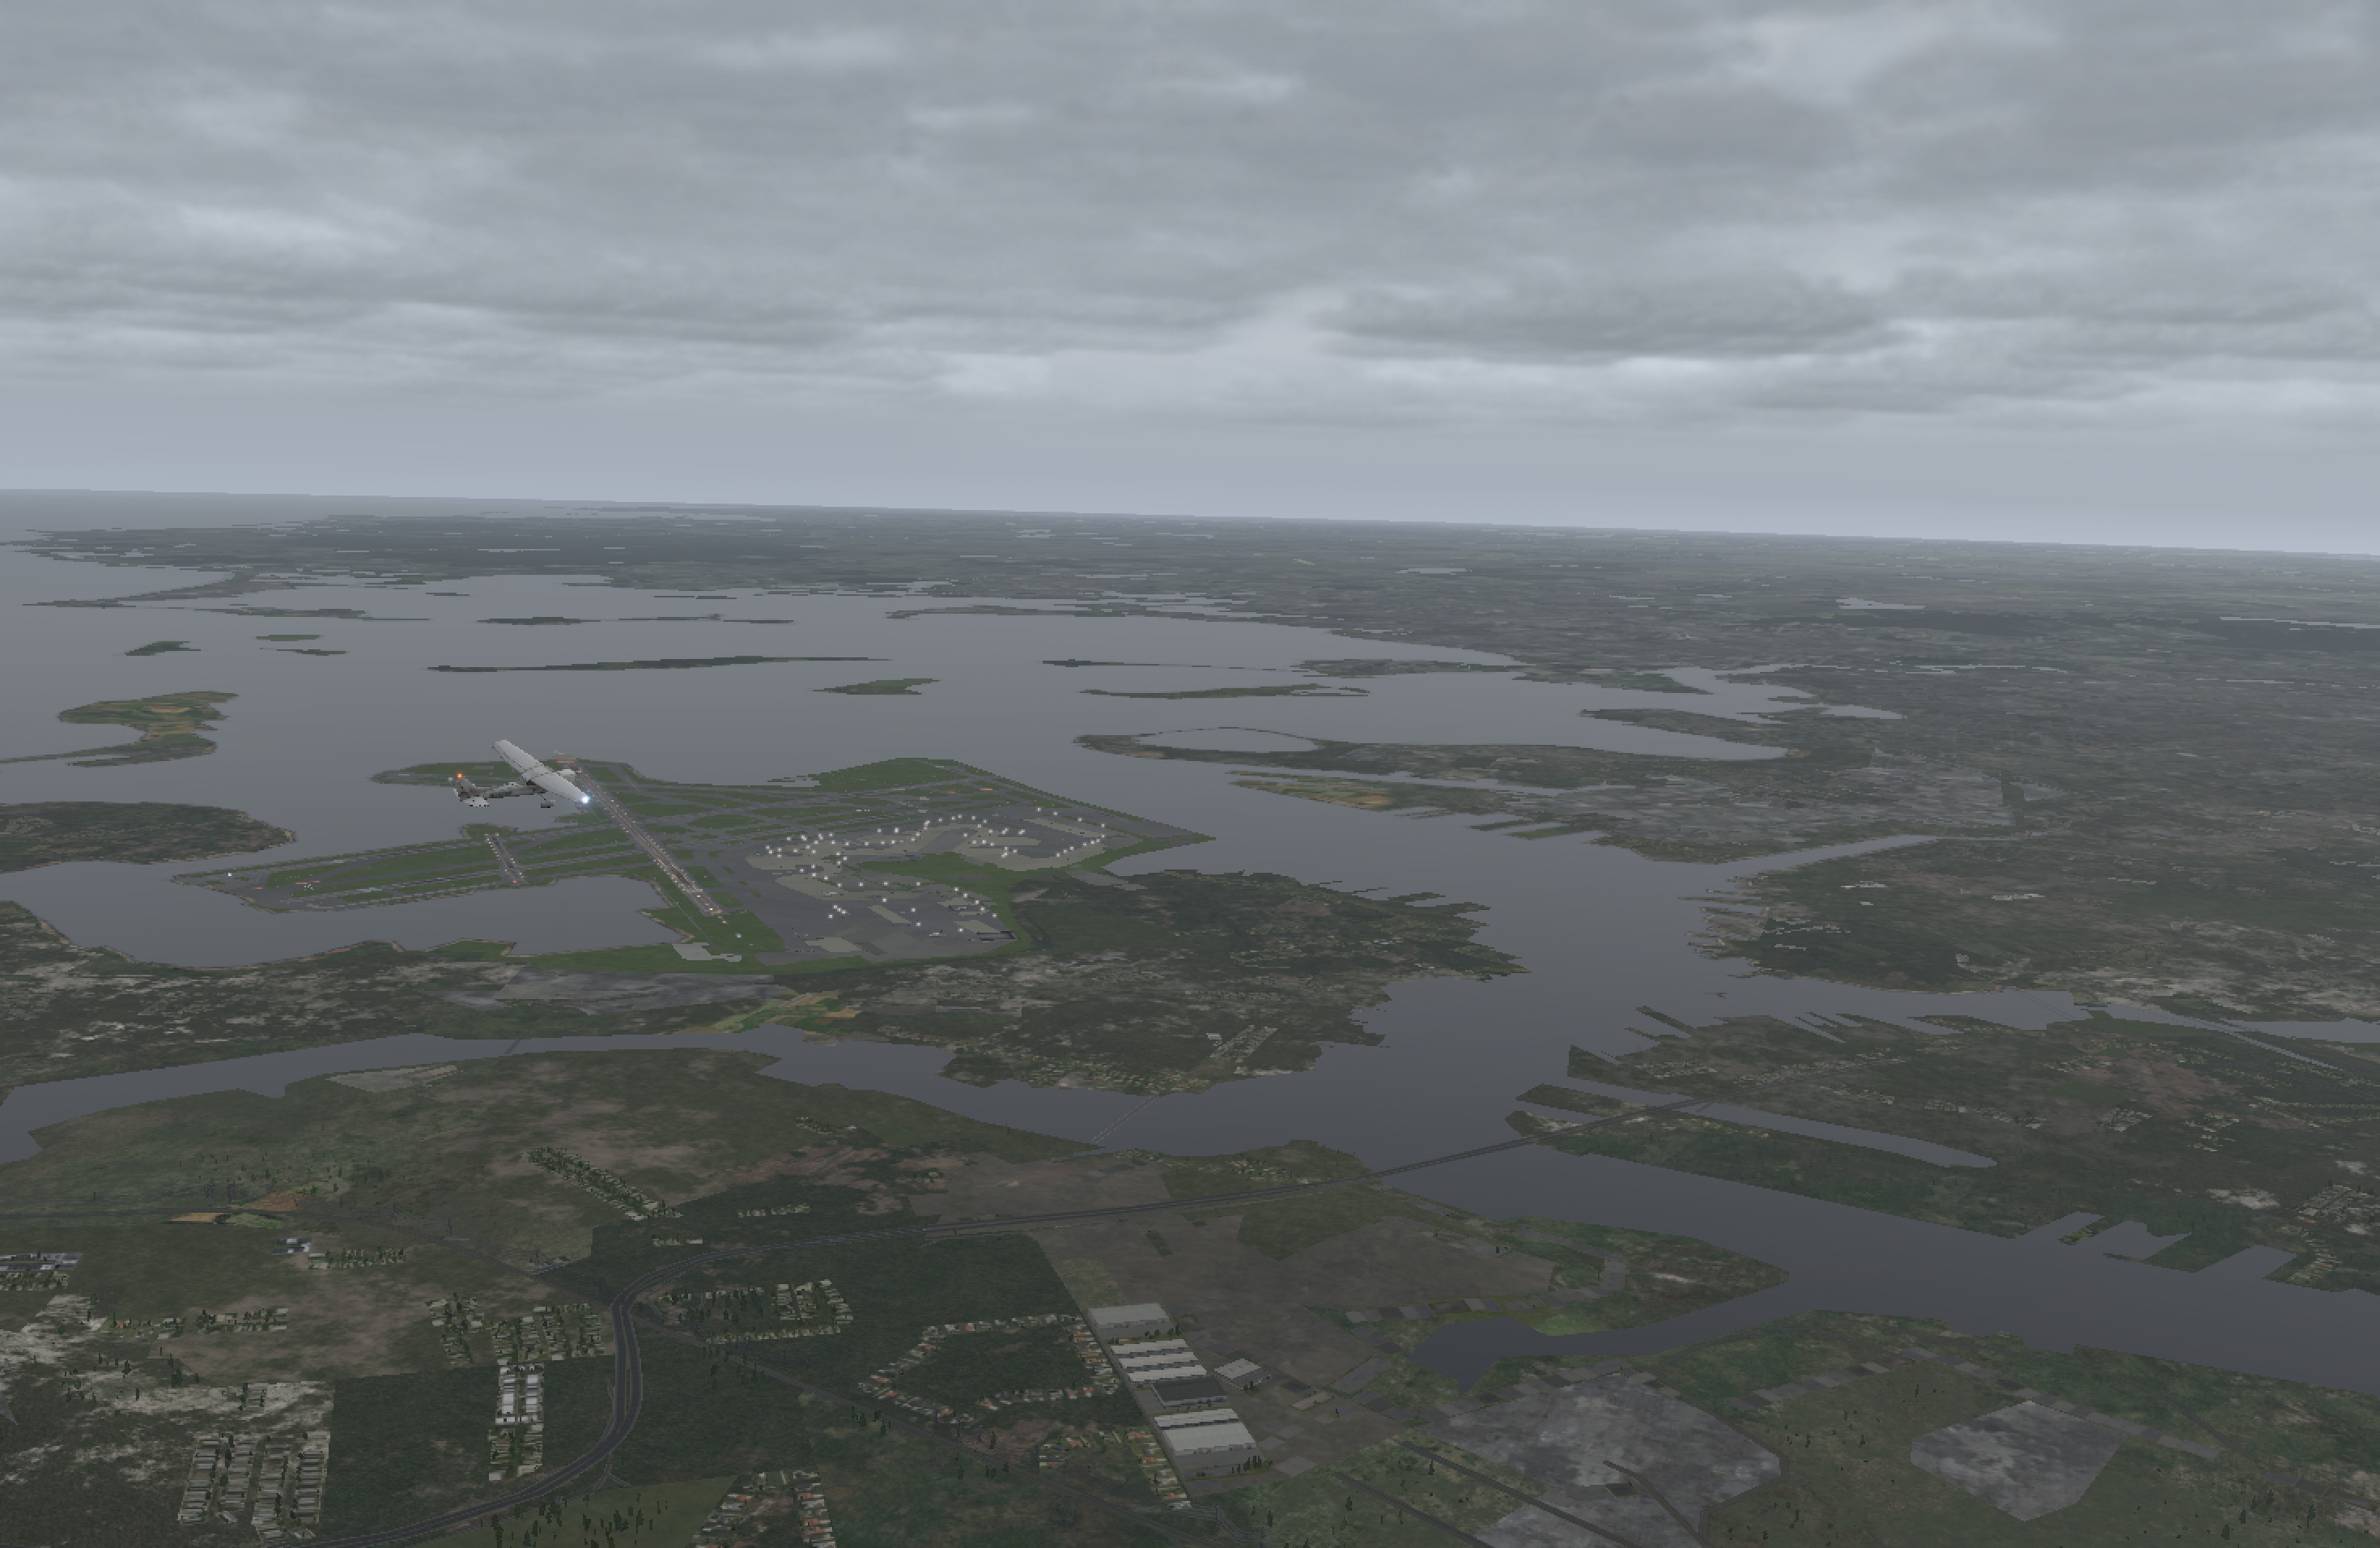aircraft: (482, 757, 605, 802)
